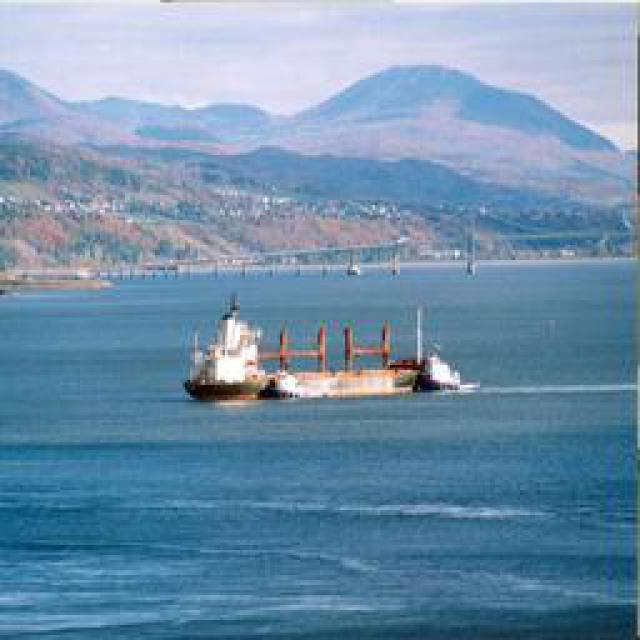Ship: (183, 300, 467, 405)
